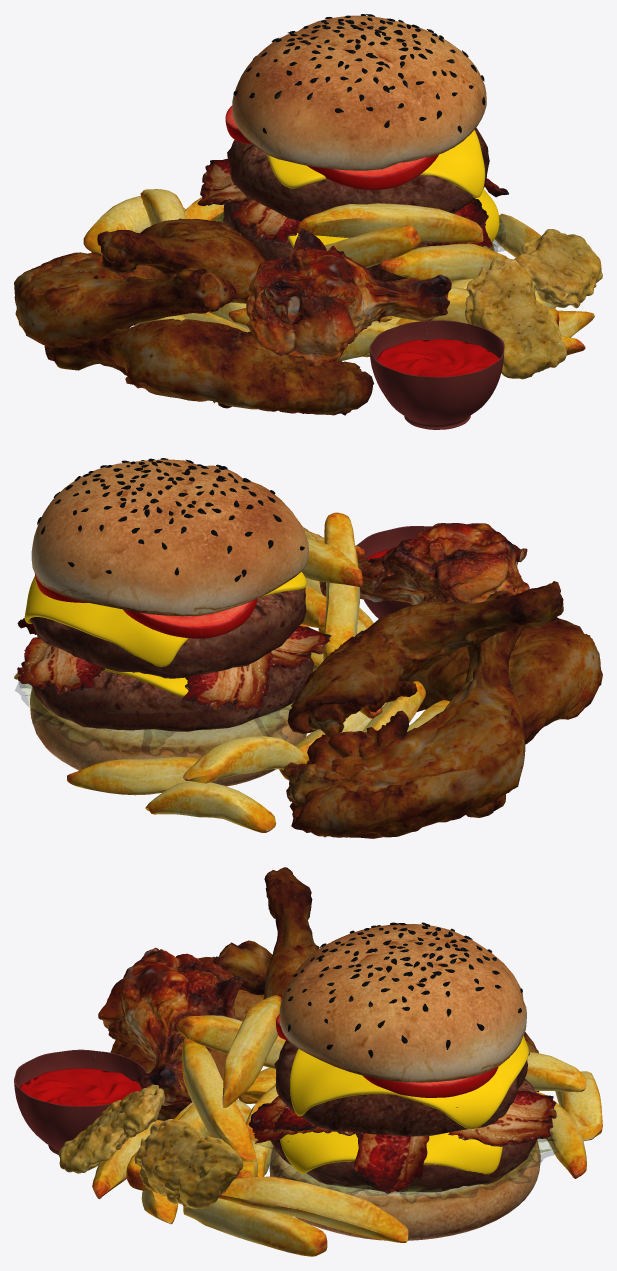
Rendered from hanbao.glb.
3 renders of one model, top to bottom at view 1: azimuth 30°, elevation 25°; view 2: azimuth 150°, elevation 25°; view 3: azimuth 270°, elevation 25°, orthographic. The views are drawn at different scales.
Visible parts, largest first — view 1: _______004, _______003, _______005, model_0, _______007, _______001, ______, _______006, _______002; view 2: _______004, _______005, _______003, model_0, ______, _______006, _______002, _______001; view 3: _______005, _______003, model_0, _______006, _______007, ______, _______001, _______004, _______002.
Boxes of the visible parts, <box> form: _______004: <box>14,218,373,415</box>; _______003: <box>232,14,494,282</box>; _______005: <box>83,128,594,360</box>; model_0: <box>246,228,451,366</box>; _______007: <box>465,229,602,379</box>; _______001: <box>369,320,504,429</box>; ______: <box>197,158,508,248</box>; _______006: <box>266,130,499,247</box>; _______002: <box>225,105,438,189</box>; _______004: <box>283,581,602,838</box>; _______005: <box>14,512,449,832</box>; _______003: <box>30,458,308,786</box>; model_0: <box>319,523,529,605</box>; ______: <box>17,618,331,710</box>; _______006: <box>24,572,311,697</box>; _______002: <box>34,573,257,638</box>; _______001: <box>356,526,431,618</box>; _______005: <box>92,995,602,1256</box>; _______003: <box>269,922,540,1240</box>; model_0: <box>98,947,243,1105</box>; _______006: <box>279,1035,528,1174</box>; _______007: <box>58,1084,243,1208</box>; ______: <box>248,1053,556,1193</box>; _______001: <box>14,1049,146,1154</box>; _______004: <box>110,867,539,1120</box>; _______002: <box>276,1014,498,1097</box>.
Size of the model in its own units: 0.364 by 0.1795 by 0.37.
10 materials, 10 textured.
